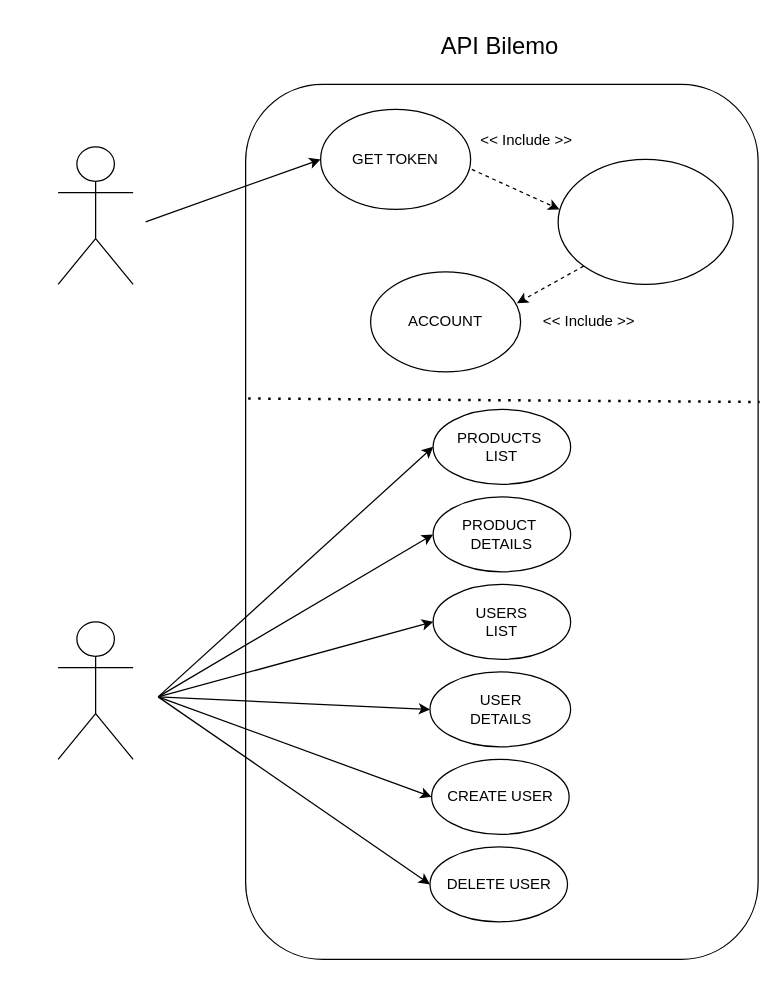
Some shapes in this 784 by 981 pixel diagram are drawn without their labels. The centre of each missing label's shape, as x and y in pixels:
AUTHENTIFICATION WITH POST CREDENTIALS: (x=645, y=221)
Client With TOKEN: (x=95, y=690)
Client Without TOKEN: (x=95, y=215)
